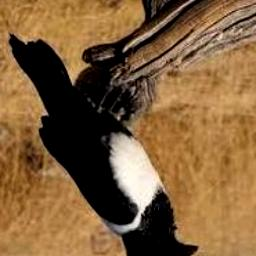Crow: (8, 33, 199, 256)
